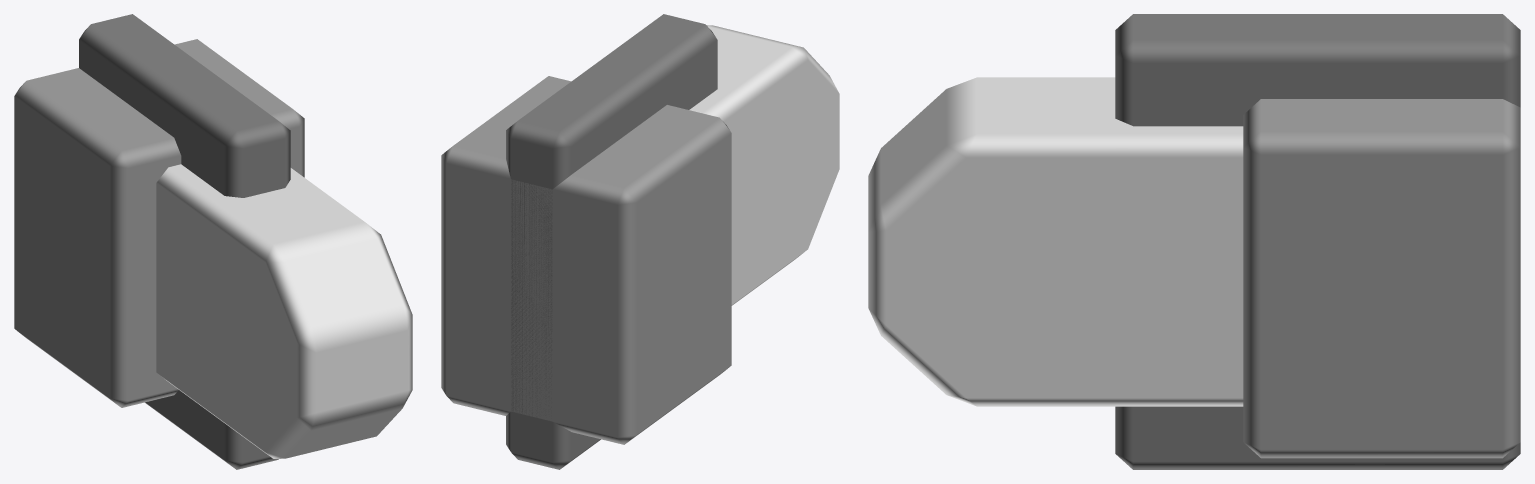
Rendered from Cables_Holder.fbx.
3 views of the same model, side by side, from view 1: azimuth 30°, elevation 25°; view 2: azimuth 150°, elevation 25°; view 3: azimuth 270°, elevation 25° (orthographic). The views are drawn at different scales.
Parts seen in each view (by area): view 1: Cube.005; view 2: Cube.005; view 3: Cube.005.
Boxes of the visible parts, x1,y1,x2,y2 form: Cube.005: (14,14,412,469); Cube.005: (441,14,839,469); Cube.005: (868,14,1520,469).
Size of the model in its own units: 32.2 by 53.46 by 73.46.
